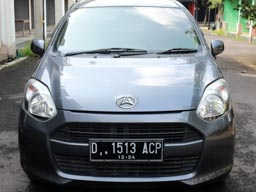plat: (90, 140, 161, 155)
